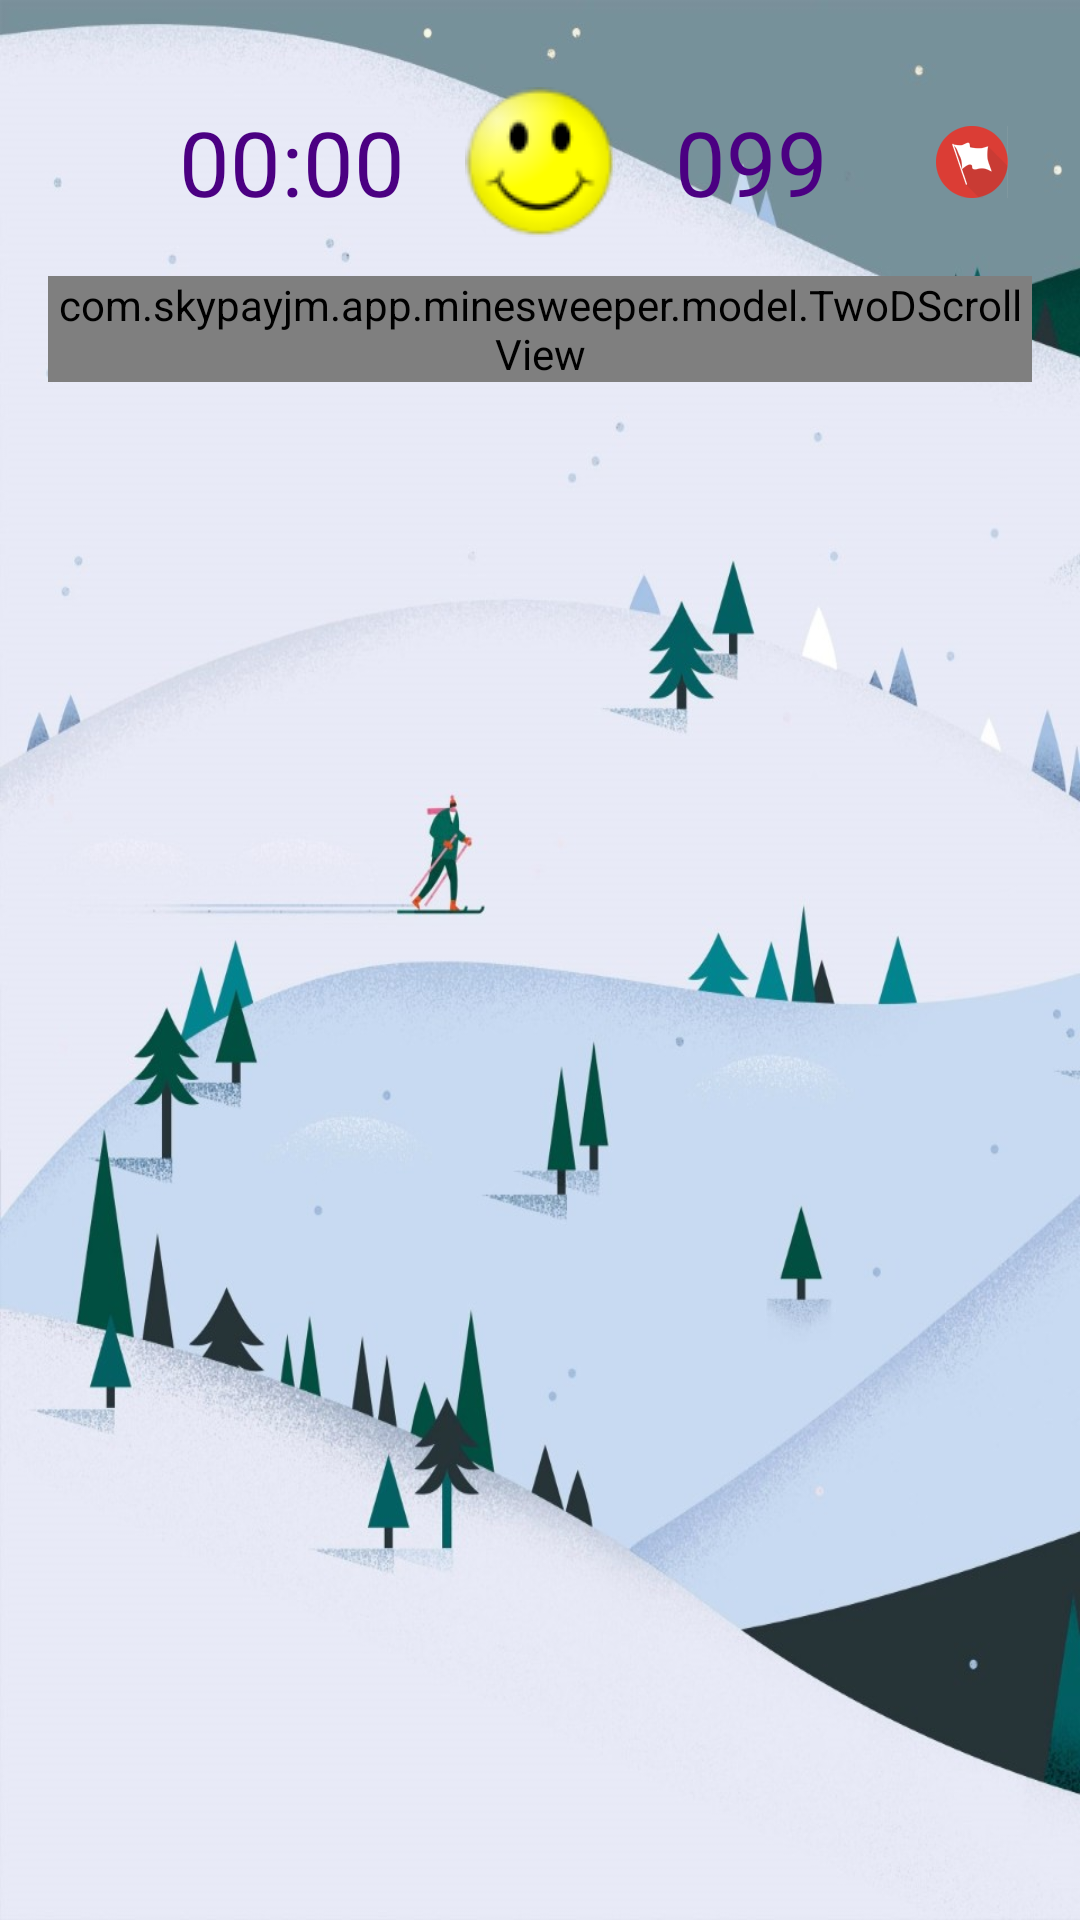

Locate icon controls on the screen. Image size 1080w x 1920h, boxes as (x1, y1, x2, y2).
flag mode: (936, 126, 1008, 198)
smiley: (465, 87, 615, 235)
